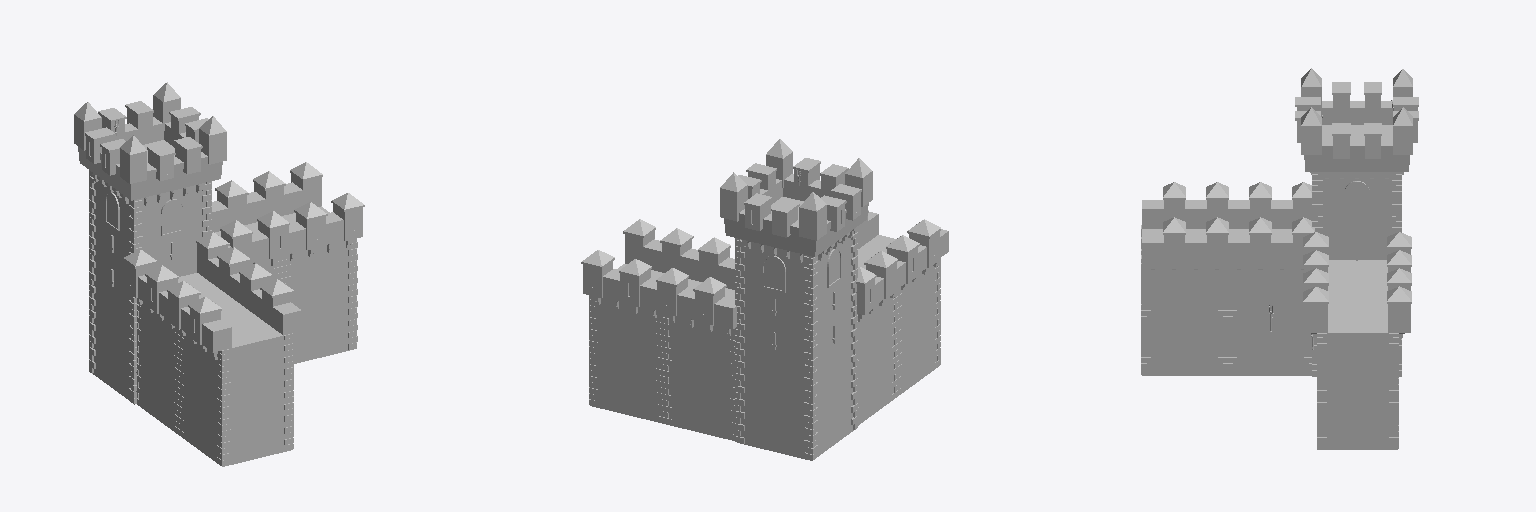
The model's file is CornerWall.obj.
3 renders of one model, left to right at view 1: azimuth 30°, elevation 25°; view 2: azimuth 150°, elevation 25°; view 3: azimuth 270°, elevation 25°, orthographic.
Visible parts, largest first — view 1: Corner_Cube.010; view 2: Corner_Cube.010; view 3: Corner_Cube.010.
Boxes of the visible parts, x1,y1,x2,y2 form: Corner_Cube.010: [74, 82, 364, 466]; Corner_Cube.010: [581, 139, 948, 460]; Corner_Cube.010: [1141, 68, 1418, 449].
Bounding box in the file's own units: 12.92 × 13.91 × 12.92.